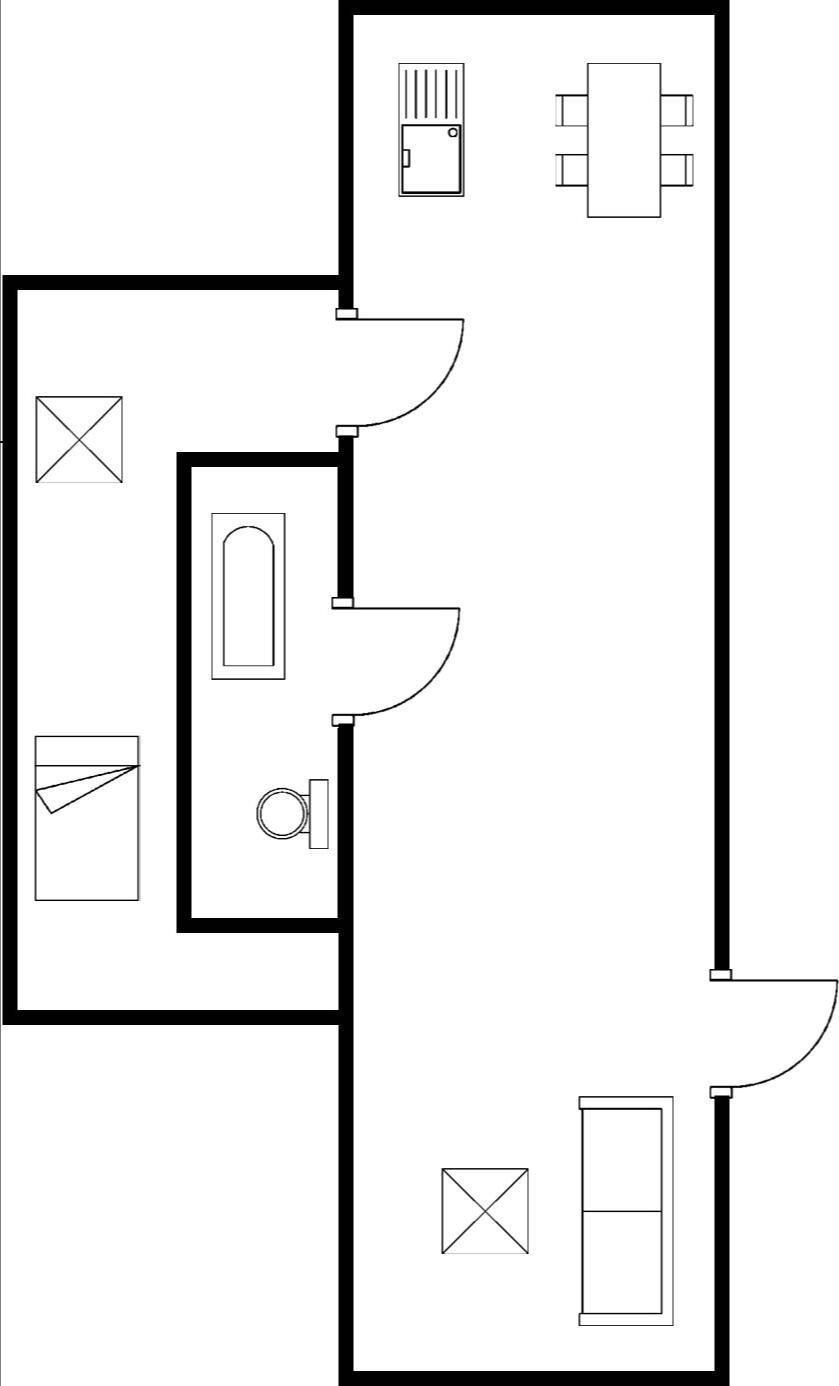bed: (27, 728, 146, 906)
dining_table: (541, 53, 706, 226)
sink: (390, 49, 475, 202)
sofa: (572, 1087, 683, 1336)
toilet: (252, 771, 335, 859)
tub: (203, 502, 295, 687)
